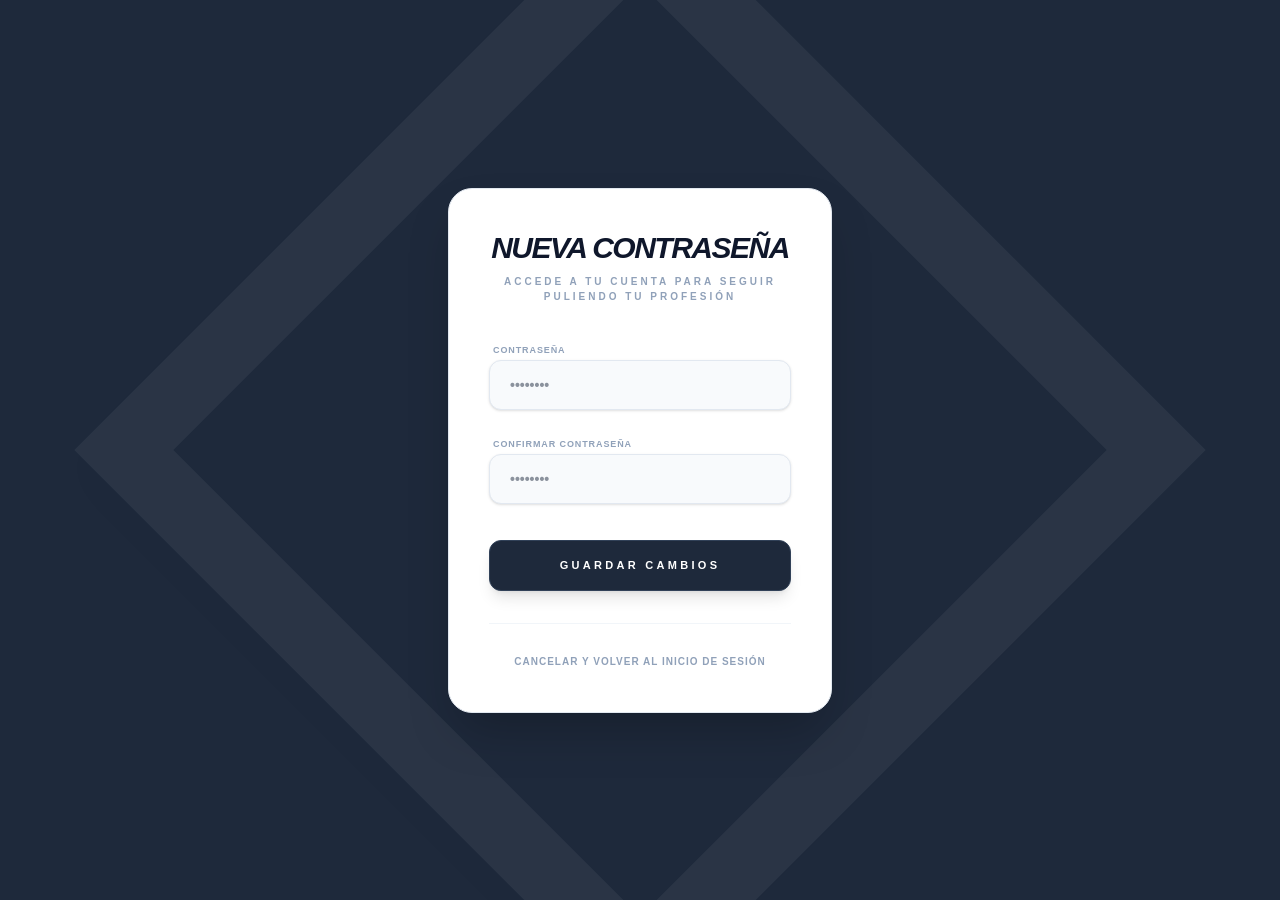
Test: ResetPasswordPage › muestra error si las contraseñas no coinciden
Type "abcde12" into the 1st password field with placeholder "••••••••" at (640, 385), box [489,360,791,410]
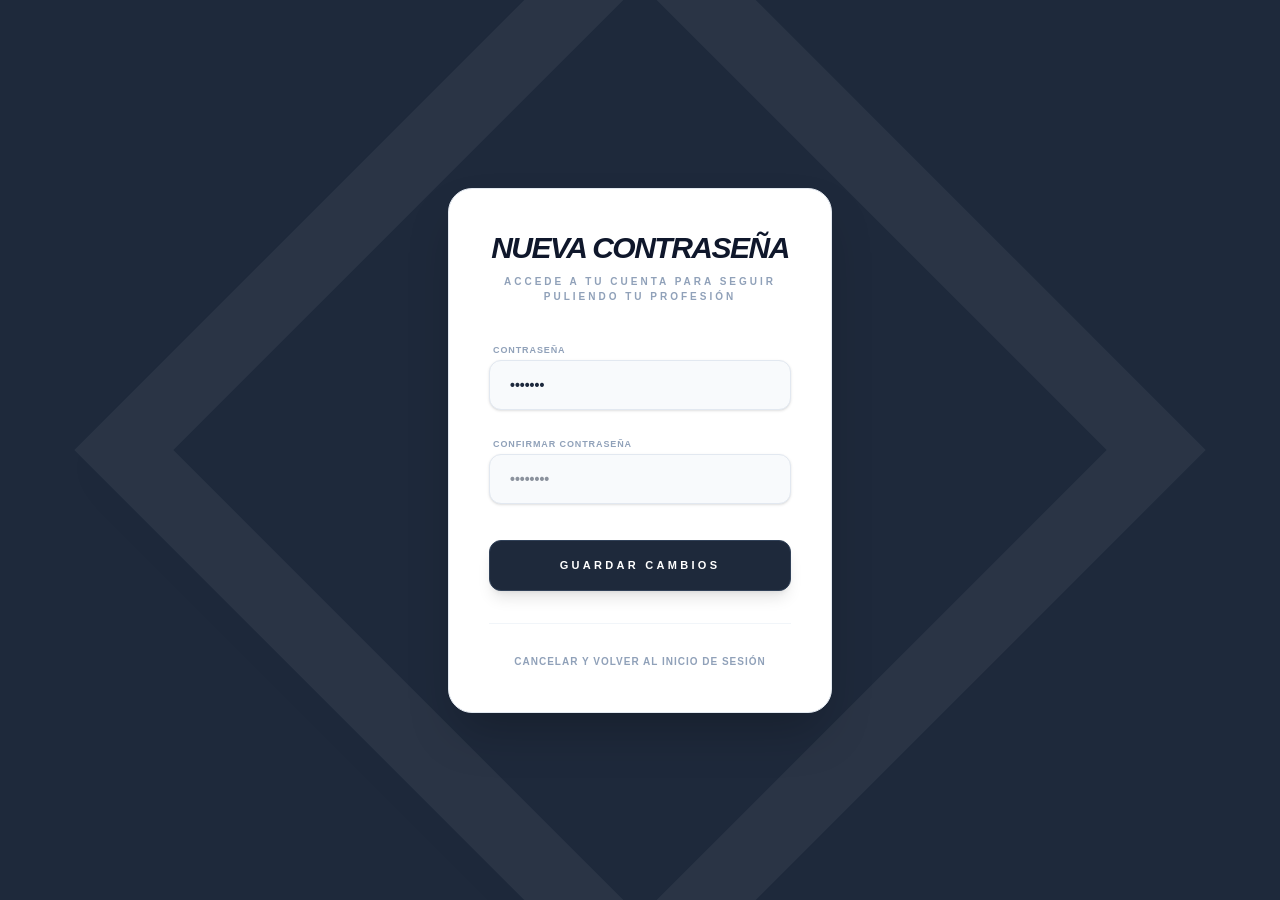
Type "distinta12" into the password field with placeholder "••••••••" at (640, 479), box [489,454,791,504]
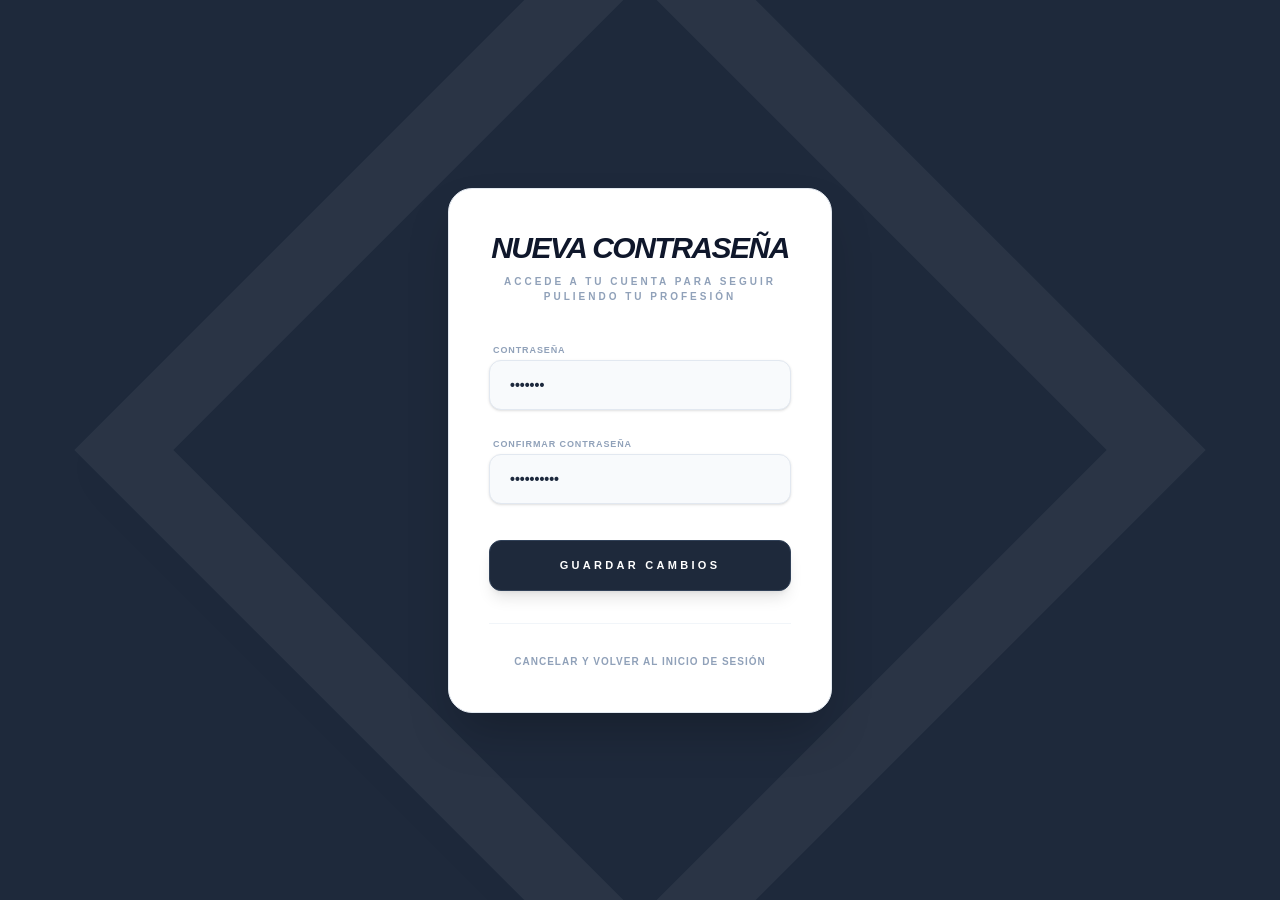
Click the button "Guardar Cambios" at (640, 565), box [489,540,791,590]
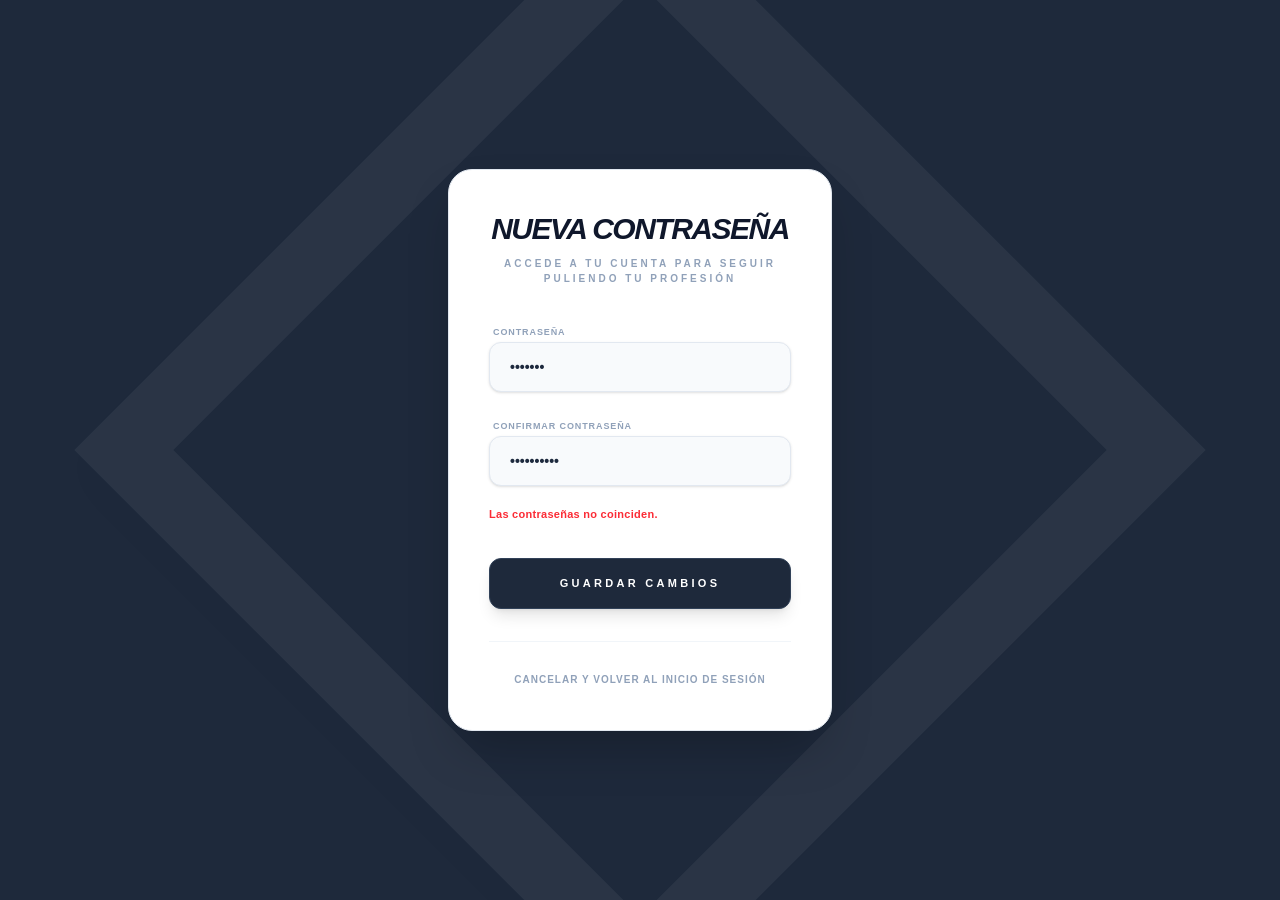
expect the text "Las contraseñas no coinciden." is shown: met, box [489,508,658,520]
